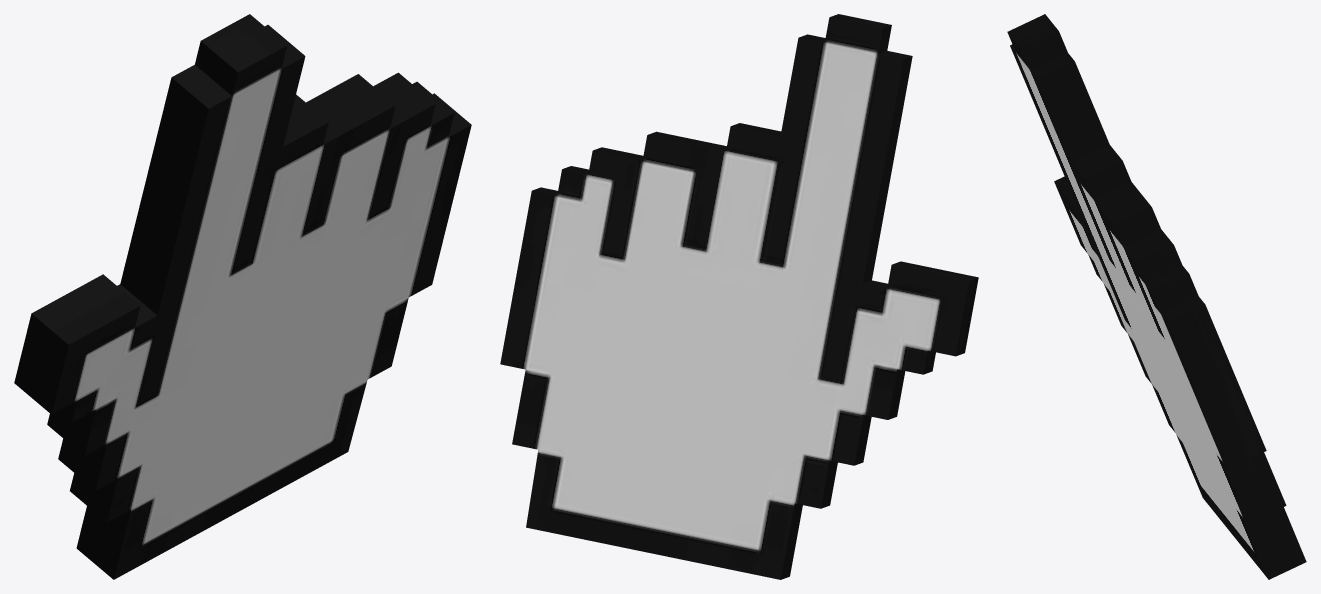
Rendered from cursor.glb.
3 renders of one model, left to right at view 1: azimuth 30°, elevation 25°; view 2: azimuth 150°, elevation 25°; view 3: azimuth 270°, elevation 25°, orthographic. The views are drawn at different scales.
Visible parts, largest first — view 1: CursorHand_CursorHand_0_0; view 2: CursorHand_CursorHand_0_0; view 3: CursorHand_CursorHand_0_0.
Part boxes in pixels (x1=…): CursorHand_CursorHand_0_0: x1=14, y1=14, x2=471, y2=579; CursorHand_CursorHand_0_0: x1=500, y1=14, x2=978, y2=579; CursorHand_CursorHand_0_0: x1=1007, y1=14, x2=1306, y2=579.
Bounding box in the file's own units: 0.1081 × 0.1316 × 0.0739.
Materials: 1 (1 with a texture image).
